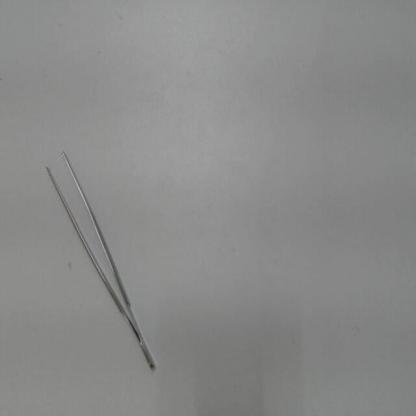Gillies Toothed Dissector: (40, 137, 165, 380)
